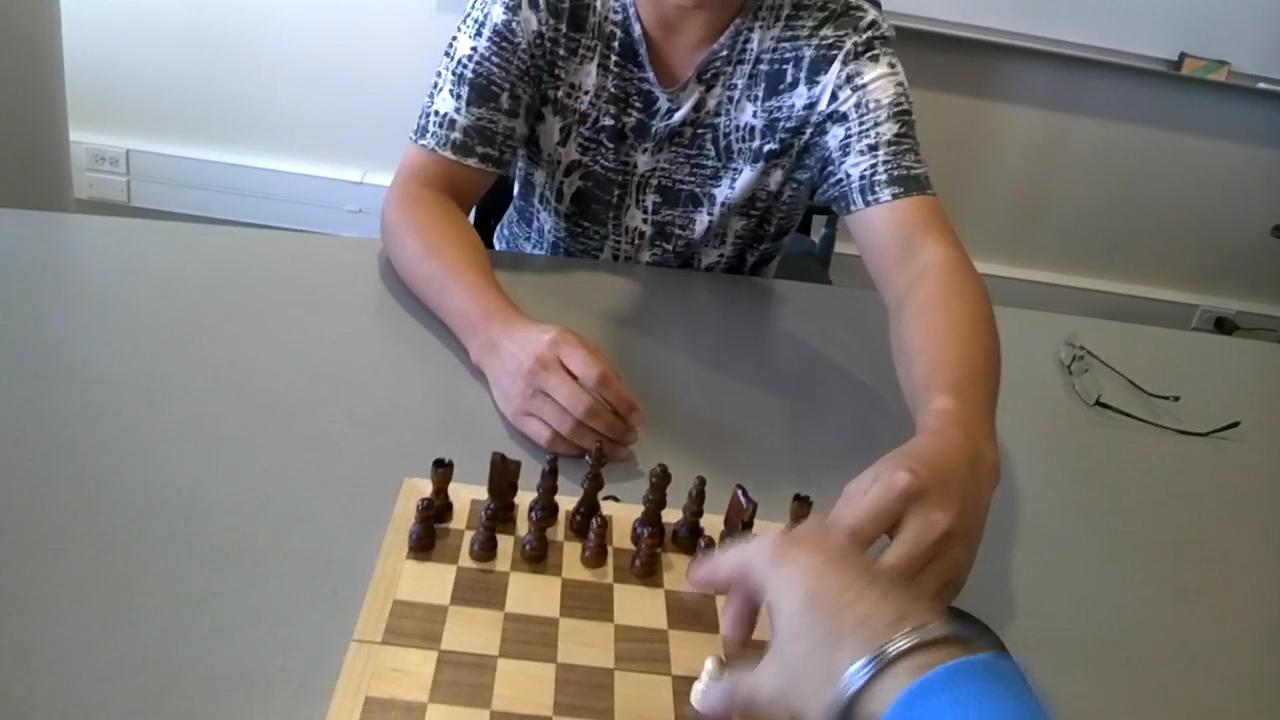hand: (684, 513, 961, 707), (829, 415, 1023, 595), (489, 303, 653, 470)
